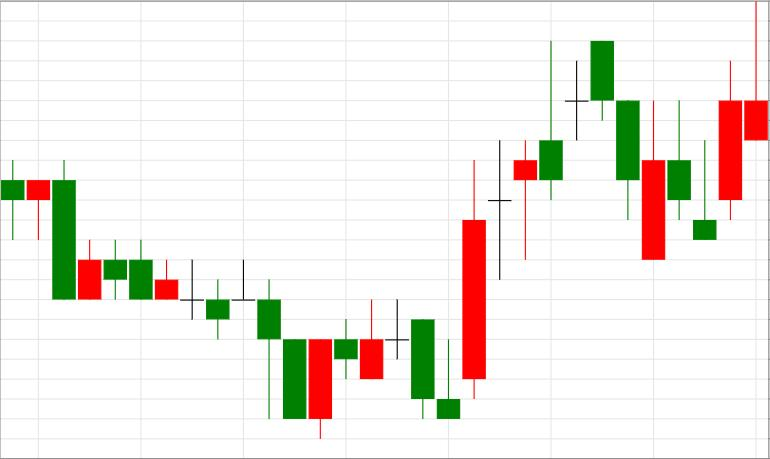bullish_engulfing_rise: (53, 161, 331, 438)
shooting_star_fall: (437, 41, 563, 419)
